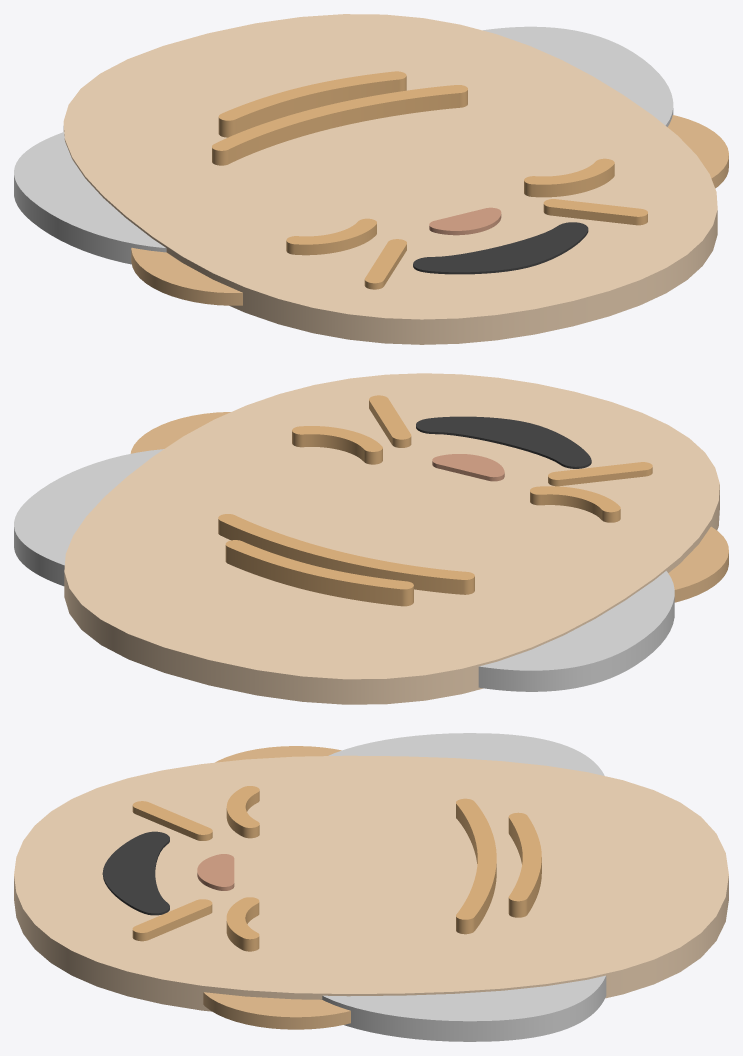
Rendered from emoji_u1f474_1f3fb.glb.
3 renders of one model, top to bottom at view 1: azimuth 30°, elevation 25°; view 2: azimuth 150°, elevation 25°; view 3: azimuth 270°, elevation 25°, orthographic. The views are drawn at different scales.
Visible parts, largest first — view 1: emoji_u1f474_1f3fb; view 2: emoji_u1f474_1f3fb; view 3: emoji_u1f474_1f3fb.
Boxes of the visible parts, box(x1,y1,x2,y2) form: emoji_u1f474_1f3fb: box(14, 14, 728, 344); emoji_u1f474_1f3fb: box(14, 373, 728, 704); emoji_u1f474_1f3fb: box(14, 733, 728, 1041).
Bounding box in the file's own units: 0.0299 × 0.0028 × 0.0314.
